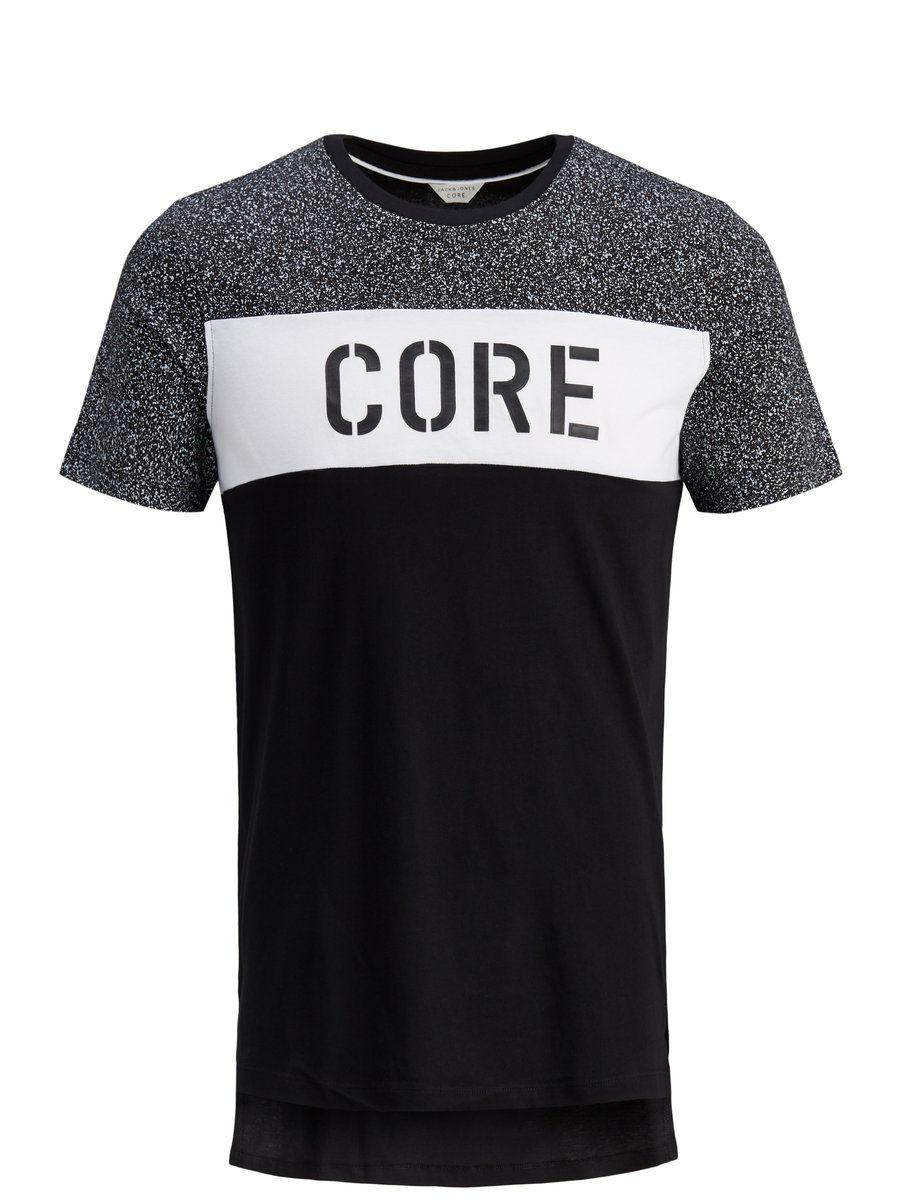teeshirt: (43, 122, 869, 1194)
